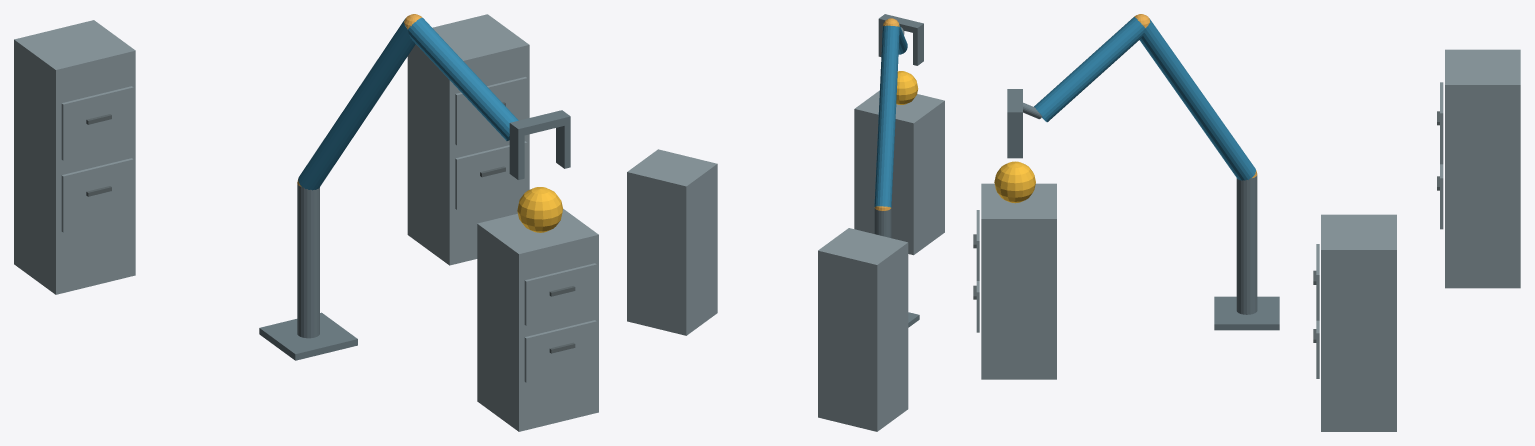
3 views of the same model, side by side, from view 1: azimuth 30°, elevation 25°; view 2: azimuth 150°, elevation 25°; view 3: azimuth 270°, elevation 25° (orthographic). The views are drawn at different scales.
Parts seen in each view (by area): view 1: cabinet_3 body, cabinet_1 body, cabinet_2 body, moving link 1, cabinet_3 drawer front, cabinet_3 drawer front.001, fixed post, moving link 2, cabinet_1 drawer front.001, cabinet_1 drawer front, cabinet_2 drawer front, cabinet_2 drawer front.001 (+5 smaller); view 2: cabinet_3 body, cabinet_2 body, cabinet_1 body, moving link 1, ball ball_1, fixed post, gripper bridge, gripper finger -1; view 3: cabinet_3 body, cabinet_2 body, cabinet_1 body, moving link 1, fixed post, moving link 2, pedestal, ball ball_1, gripper finger 1.
Part boxes in pixels (bbox=[...]): cabinet_3 body: bbox=[14, 20, 135, 294]; cabinet_1 body: bbox=[477, 208, 598, 431]; cabinet_2 body: bbox=[407, 14, 529, 265]; moving link 1: bbox=[298, 18, 415, 190]; cabinet_3 drawer front: bbox=[61, 158, 133, 232]; cabinet_3 drawer front.001: bbox=[61, 86, 133, 160]; fixed post: bbox=[297, 184, 319, 338]; moving link 2: bbox=[408, 17, 518, 140]; cabinet_1 drawer front.001: bbox=[524, 263, 596, 325]; cabinet_1 drawer front: bbox=[524, 320, 596, 382]; cabinet_2 drawer front: bbox=[455, 141, 527, 209]; cabinet_2 drawer front.001: bbox=[455, 77, 527, 145]; cabinet_3 body: bbox=[818, 228, 908, 431]; cabinet_2 body: bbox=[627, 149, 717, 335]; cabinet_1 body: bbox=[854, 90, 944, 255]; moving link 1: bbox=[874, 25, 899, 207]; ball ball_1: bbox=[896, 71, 918, 104]; fixed post: bbox=[874, 208, 891, 238]; gripper bridge: bbox=[878, 14, 923, 33]; gripper finger -1: bbox=[913, 29, 923, 65]; cabinet_3 body: bbox=[1445, 49, 1520, 288]; cabinet_2 body: bbox=[1321, 214, 1396, 431]; cabinet_1 body: bbox=[981, 183, 1056, 379]; moving link 1: bbox=[1139, 18, 1255, 180]; fixed post: bbox=[1236, 175, 1257, 314]; moving link 2: bbox=[1034, 17, 1145, 122]; pedestal: bbox=[1214, 296, 1279, 330]; ball ball_1: bbox=[994, 161, 1035, 203]; gripper finger 1: bbox=[1007, 119, 1022, 158].
Bounding box in the file's own units: 1.62 × 1.36 × 2.1.
